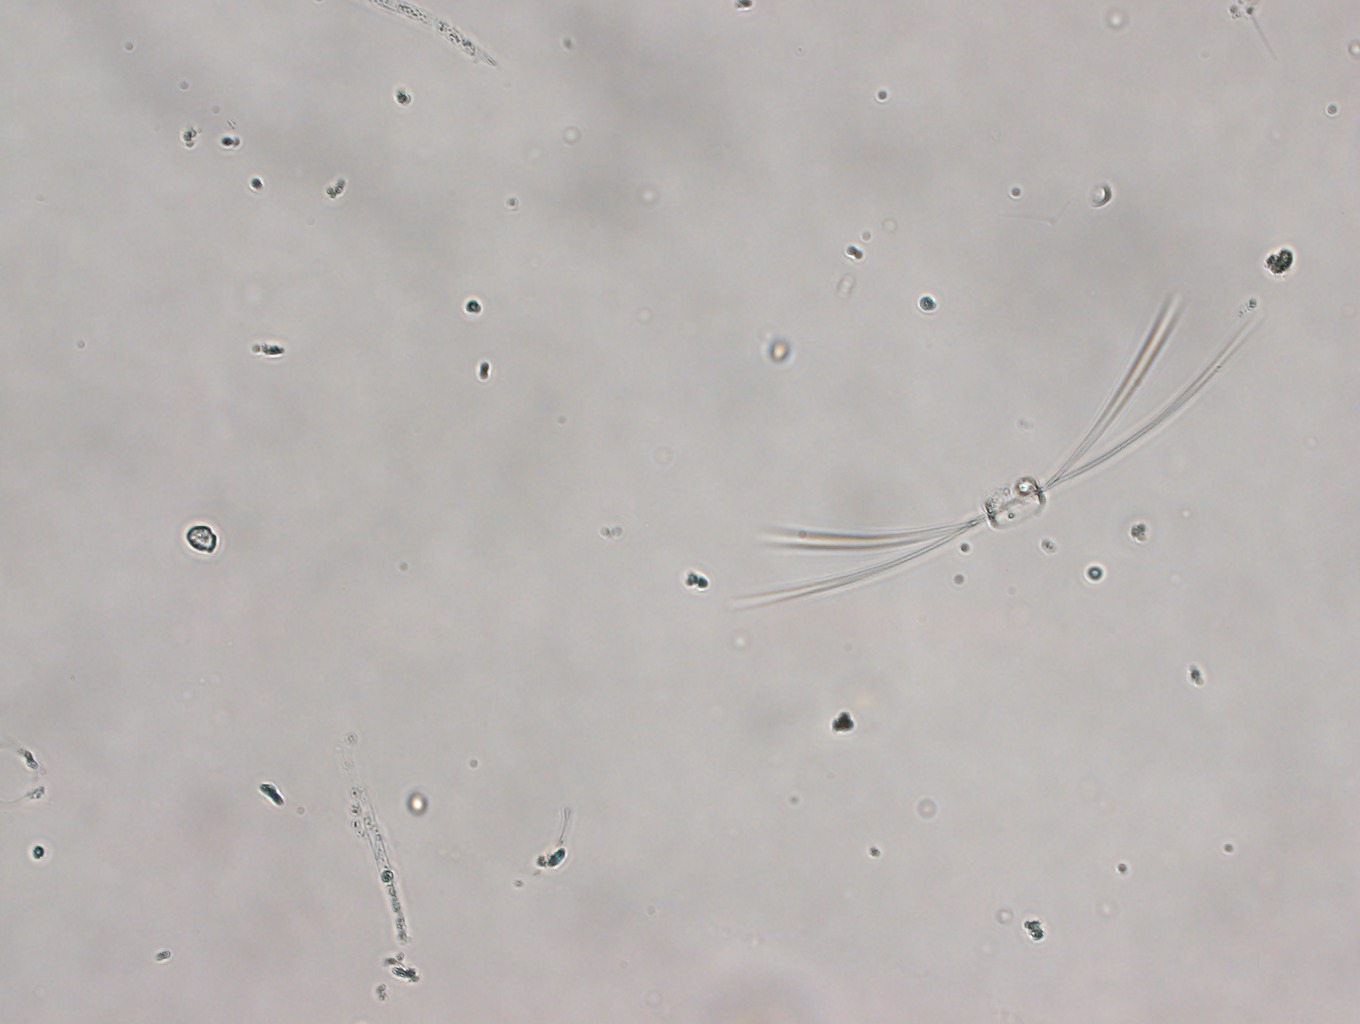chaetoceros: (715, 276, 1268, 612)
